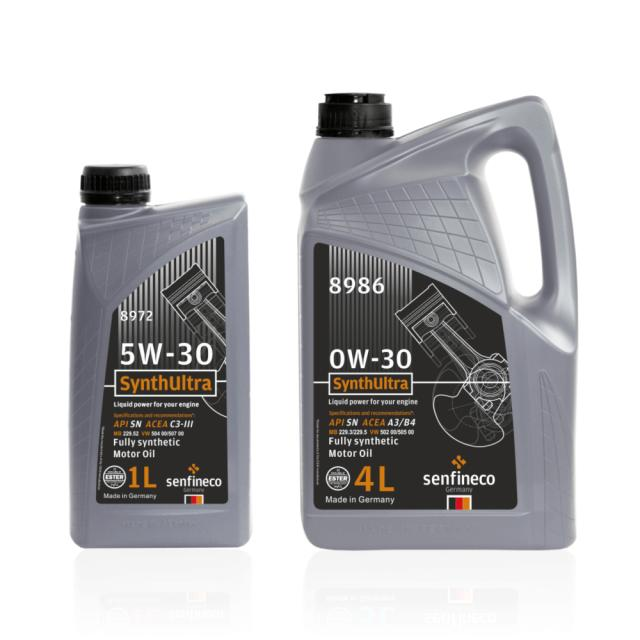motor_oil: (296, 87, 580, 556), (59, 158, 256, 556)
